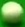white: (0, 0, 25, 27)
